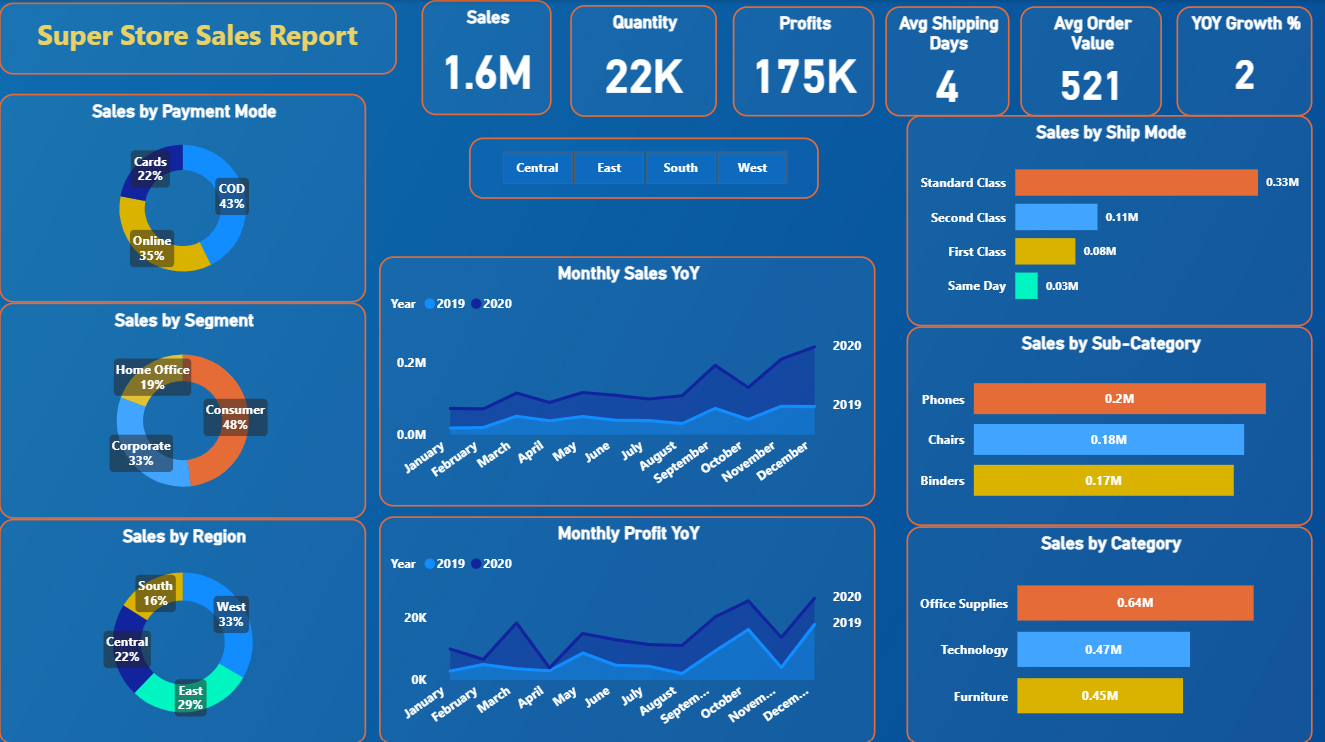

The page's visual inventory and layout, read from the dashboard file:
{"tool":"powerbi","page":{"name":"Sales Report","canvas":[1280,720],"ordinal":0},"visuals":[{"type":"clusteredBarChart","title":"Sales by Category","fields":{"Category":["SuperStore_Sales_Dataset.Category"],"Y":["Sum(SuperStore_Sales_Dataset.Sales)"]},"box":[875.9,507.9,392.1,212.3],"z":0},{"type":"clusteredBarChart","title":"Sales by Sub-Category","fields":{"Y":["Sum(SuperStore_Sales_Dataset.Sales)"],"Category":["SuperStore_Sales_Dataset.Sub-Category"]},"box":[875.9,314.9,392.1,193],"z":1000},{"type":"clusteredBarChart","title":"Sales by Ship Mode","fields":{"Y":["Sum(SuperStore_Sales_Dataset.Sales)"],"Category":["SuperStore_Sales_Dataset.Ship Mode"]},"box":[875.9,111,392.1,203.9],"z":2000},{"type":"stackedAreaChart","title":"Monthly Sales YoY","fields":{"Category":["SuperStore_Sales_Dataset.Order Date.Variation.Date Hierarchy.Month","SuperStore_Sales_Dataset.Order Date.Variation.Date Hierarchy.Day"],"Y":["Sum(SuperStore_Sales_Dataset.Sales)"],"Series":["SuperStore_Sales_Dataset.Order Date.Variation.Date Hierarchy.Year"]},"box":[366.8,247.3,479,241.3],"z":3000},{"type":"stackedAreaChart","title":"Monthly Profit YoY","fields":{"Category":["SuperStore_Sales_Dataset.Order Date.Variation.Date Hierarchy.Month","SuperStore_Sales_Dataset.Order Date.Variation.Date Hierarchy.Day"],"Series":["SuperStore_Sales_Dataset.Order Date.Variation.Date Hierarchy.Year"],"Y":["Sum(SuperStore_Sales_Dataset.Profit)"]},"box":[366.8,498.3,479,222],"z":4000},{"type":"donutChart","title":"Sales by Segment","fields":{"Category":["SuperStore_Sales_Dataset.Segment"],"Y":["Sum(SuperStore_Sales_Dataset.Sales)"]},"box":[0,292,354.7,208.7],"z":5000},{"type":"donutChart","title":"Sales by Payment Mode","fields":{"Y":["Sum(SuperStore_Sales_Dataset.Sales)"],"Category":["SuperStore_Sales_Dataset.Payment Mode"]},"box":[0,90.5,354.7,201.5],"z":6000},{"type":"donutChart","title":"Sales by Region","fields":{"Y":["Sum(SuperStore_Sales_Dataset.Sales)"],"Category":["SuperStore_Sales_Dataset.Region"]},"box":[0,500.7,354.7,219.6],"z":7000},{"type":"slicer","fields":{"Values":["SuperStore_Sales_Dataset.Region"]},"box":[453.6,132.7,337.8,59.1],"z":8000},{"type":"textbox","box":[0,2.9,383.8,69.3],"z":9000},{"type":"card","title":"Sales","fields":{"Values":["Sum(SuperStore_Sales_Dataset.Sales)"]},"box":[408.3,0,125.5,111.1],"z":10000},{"type":"card","title":"Quantity","fields":{"Values":["Sum(SuperStore_Sales_Dataset.Quantity)"]},"box":[551.1,4.3,141.4,108.2],"z":11000},{"type":"card","title":"Profits","fields":{"Values":["Sum(SuperStore_Sales_Dataset.Profit)"]},"box":[708.4,5.8,137.1,106.8],"z":12000},{"type":"card","title":"Avg Shipping Days","fields":{"Values":["Avg(SuperStore_Sales_Dataset.AvgDeliveryDays)"]},"box":[855.6,5.8,119.7,106.8],"z":13000},{"type":"card","title":"Avg Order Value","fields":{"Values":["SuperStore_Sales_Dataset.AOV"]},"box":[985.4,5.8,137.1,106.8],"z":14000},{"type":"card","title":"YOY Growth %","fields":{"Values":["SuperStore_Sales_Dataset.YoY_Growth %"]},"box":[1136.5,6,131.5,106.2],"z":15000}]}

Visuals, with their boxes in screenshot pixels (x1, y1, x2, y2), scaled from the page's 1280x720 canvas onto the 1325x742 screenshot:
"Sales by Category" clusteredBarChart: 907/523/1313/741
"Sales by Sub-Category" clusteredBarChart: 907/325/1313/523
"Sales by Ship Mode" clusteredBarChart: 907/114/1313/325
"Monthly Sales YoY" stackedAreaChart: 380/255/876/504
"Monthly Profit YoY" stackedAreaChart: 380/514/876/741
"Sales by Segment" donutChart: 0/301/367/516
"Sales by Payment Mode" donutChart: 0/93/367/301
"Sales by Region" donutChart: 0/516/367/741
slicer - SuperStore_Sales_Dataset.Region: 470/137/819/198
textbox: 0/3/397/74
"Sales" card: 423/0/553/114
"Quantity" card: 570/4/717/116
"Profits" card: 733/6/875/116
"Avg Shipping Days" card: 886/6/1010/116
"Avg Order Value" card: 1020/6/1162/116
"YOY Growth %" card: 1176/6/1313/116
